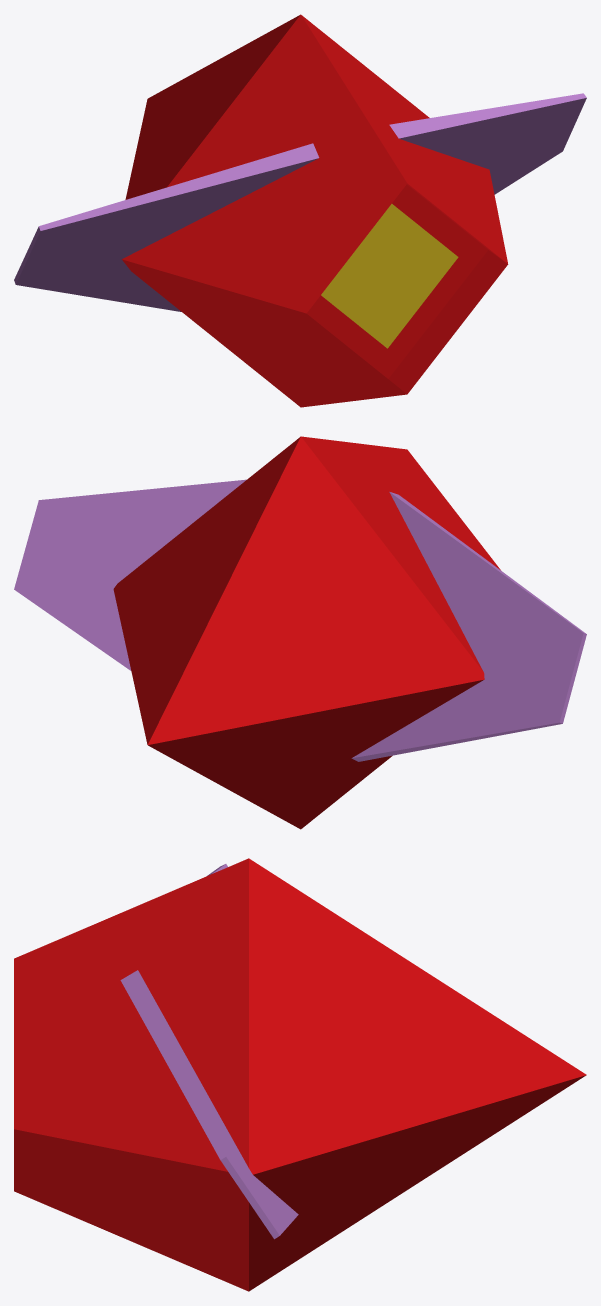
The model's file is enemy.obj.
3 views of the same model, one above another, from view 1: azimuth 30°, elevation 25°; view 2: azimuth 150°, elevation 25°; view 3: azimuth 270°, elevation 25° (orthographic). The views are drawn at different scales.
Visible parts, largest first — view 1: EnemyMesh_Cube.002; view 2: EnemyMesh_Cube.002; view 3: EnemyMesh_Cube.002.
Boxes of the visible parts, x1=… form: EnemyMesh_Cube.002: x1=14, y1=14, x2=586, y2=407; EnemyMesh_Cube.002: x1=14, y1=436, x2=586, y2=829; EnemyMesh_Cube.002: x1=14, y1=858, x2=586, y2=1291.
Bounding box in the file's own units: 4.12 × 2.83 × 3.39.
